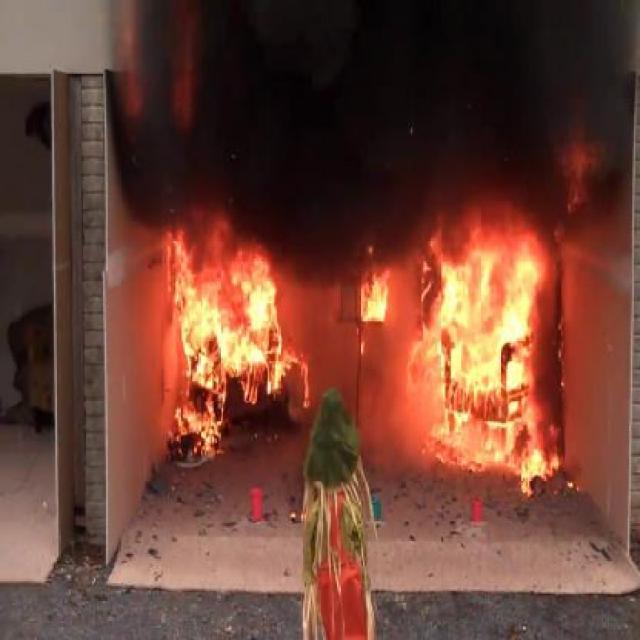fire: (408, 232, 574, 486), (174, 220, 308, 442)
smoke: (107, 6, 638, 229)
